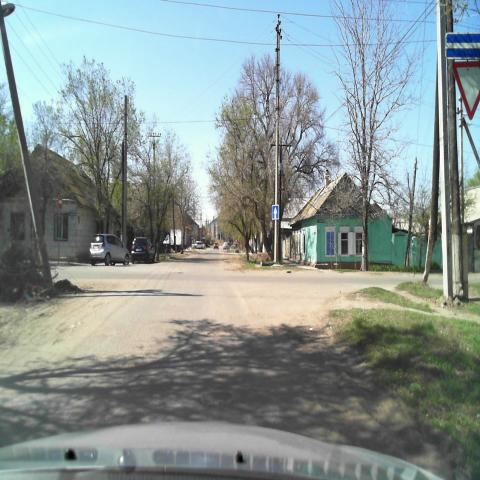5_7_1: (444, 38, 480, 58)
